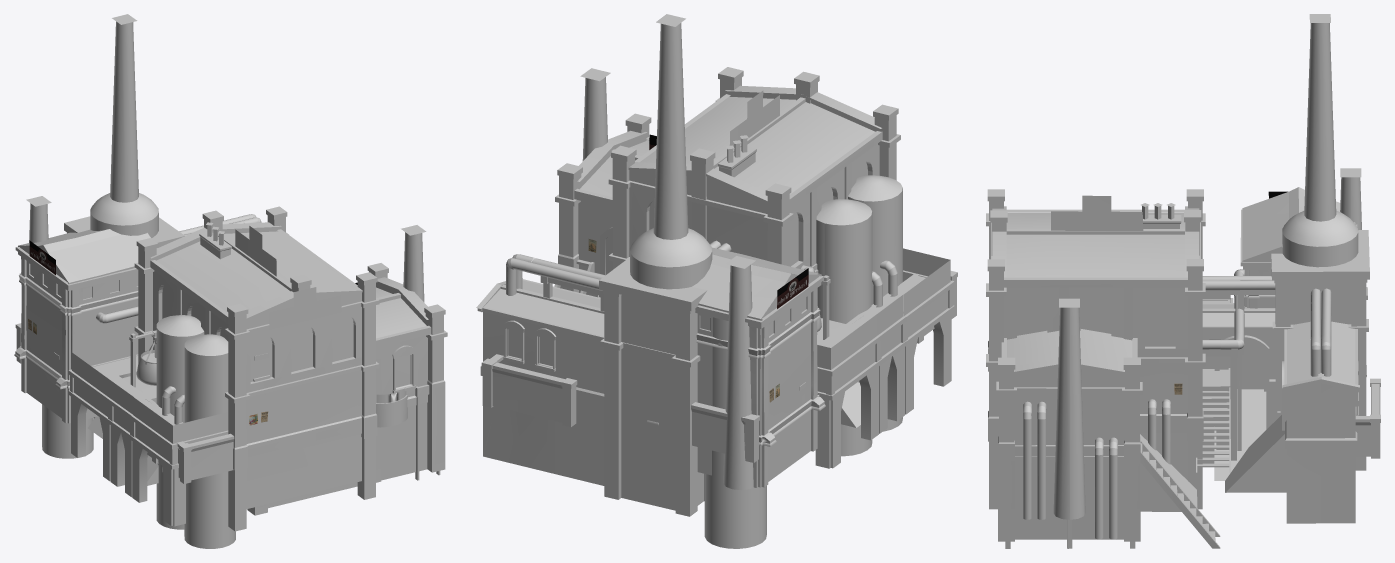
Rendered from chemicals.gltf.
3 renders of one model, left to right at view 1: azimuth 30°, elevation 25°; view 2: azimuth 150°, elevation 25°; view 3: azimuth 270°, elevation 25°, orthographic. The views are drawn at different scales.
Visible parts, largest first — view 1: _soap_lod0, _tallow_lod0; view 2: _soap_lod0, _tallow_lod0; view 3: _soap_lod0, _tallow_lod0.
Boxes of the visible parts, x1,y1,x2,y2 form: _soap_lod0: [15, 14, 440, 531]; _tallow_lod0: [14, 196, 447, 548]; _soap_lod0: [476, 14, 957, 548]; _tallow_lod0: [481, 68, 954, 489]; _soap_lod0: [986, 14, 1369, 548]; _tallow_lod0: [996, 168, 1380, 541].
Size of what is drawn, in the model's own units: 3.37 by 4.69 by 3.64.
